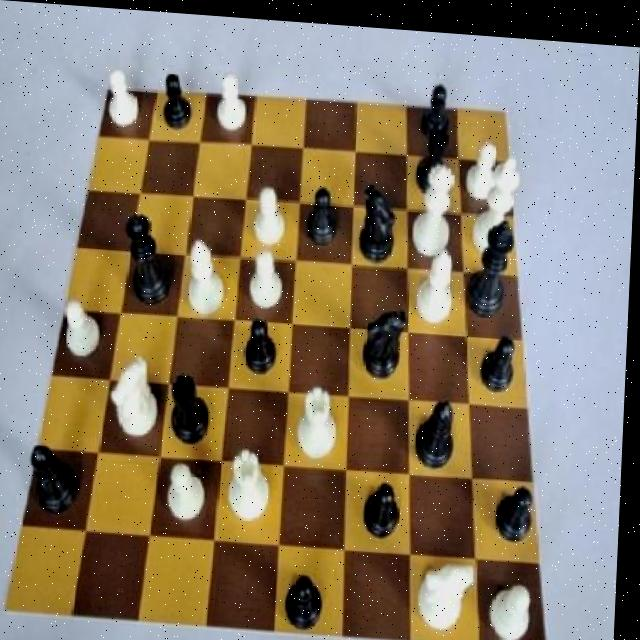bishop: (25, 431, 94, 520), (412, 380, 470, 475)
black-bishop: (462, 202, 522, 318)
black-king: (356, 172, 406, 272), (360, 291, 414, 382)
black-knight: (283, 556, 340, 637), (473, 316, 527, 398), (493, 467, 545, 545), (412, 61, 463, 140), (301, 172, 350, 252), (359, 462, 410, 537), (154, 60, 201, 138), (241, 307, 285, 383)
black-pawn: (113, 198, 182, 307)
black-queen: (167, 357, 223, 456), (411, 111, 458, 196)
black-rook: (413, 229, 465, 325), (183, 228, 237, 319)
white-bishop: (469, 142, 527, 261)
white-king: (104, 335, 171, 450), (416, 542, 483, 637)
white-knight: (483, 558, 548, 640), (165, 451, 218, 528), (57, 292, 112, 366), (244, 236, 295, 313), (99, 60, 147, 137), (249, 172, 296, 249), (462, 126, 510, 201), (211, 60, 256, 134)
white-pawn: (409, 148, 465, 258)
white-queen: (224, 433, 283, 531), (294, 375, 351, 464)
